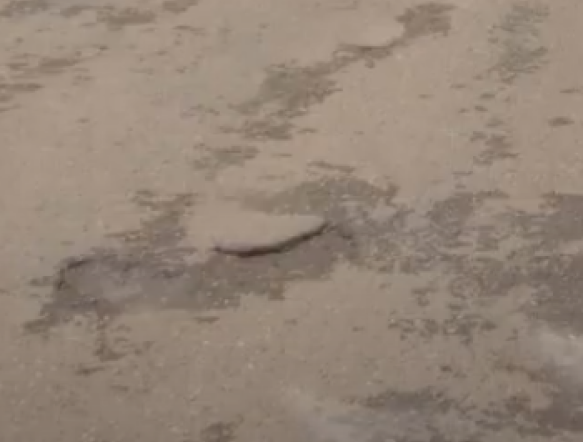Berlubang: (50, 212, 351, 329)
